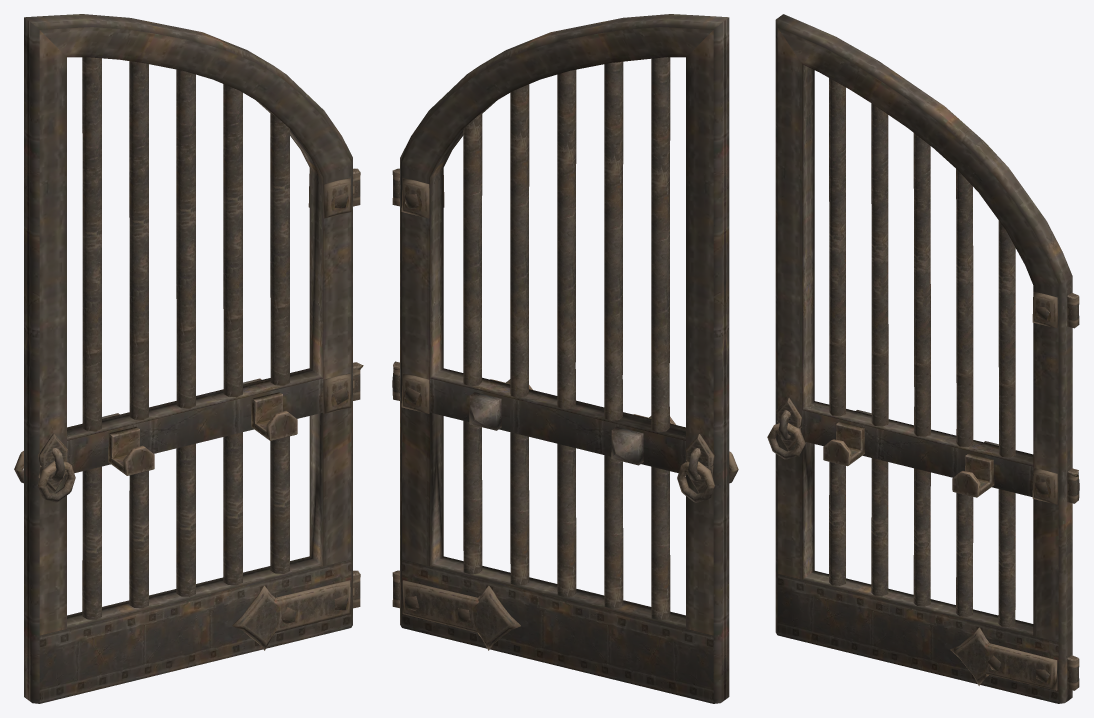
3 renders of one model, left to right at view 1: azimuth 30°, elevation 25°; view 2: azimuth 150°, elevation 25°; view 3: azimuth 330°, elevation 25°, orthographic. The views are drawn at different scales.
Visible parts, largest first — view 1: SM_DR_Vaulted_Ceiling_12x12_Doorway_Double_Door_L_01_LOD0; view 2: SM_DR_Vaulted_Ceiling_12x12_Doorway_Double_Door_L_01_LOD0; view 3: SM_DR_Vaulted_Ceiling_12x12_Doorway_Double_Door_L_01_LOD0.
Boxes of the visible parts, bbox=[...] form: SM_DR_Vaulted_Ceiling_12x12_Doorway_Double_Door_L_01_LOD0: bbox=[14, 14, 363, 703]; SM_DR_Vaulted_Ceiling_12x12_Doorway_Double_Door_L_01_LOD0: bbox=[392, 14, 738, 703]; SM_DR_Vaulted_Ceiling_12x12_Doorway_Double_Door_L_01_LOD0: bbox=[767, 14, 1079, 703].
Bounding box in the file's own units: 2.05 × 3.98 × 0.4849.
Materials: 2 (2 with a texture image).
